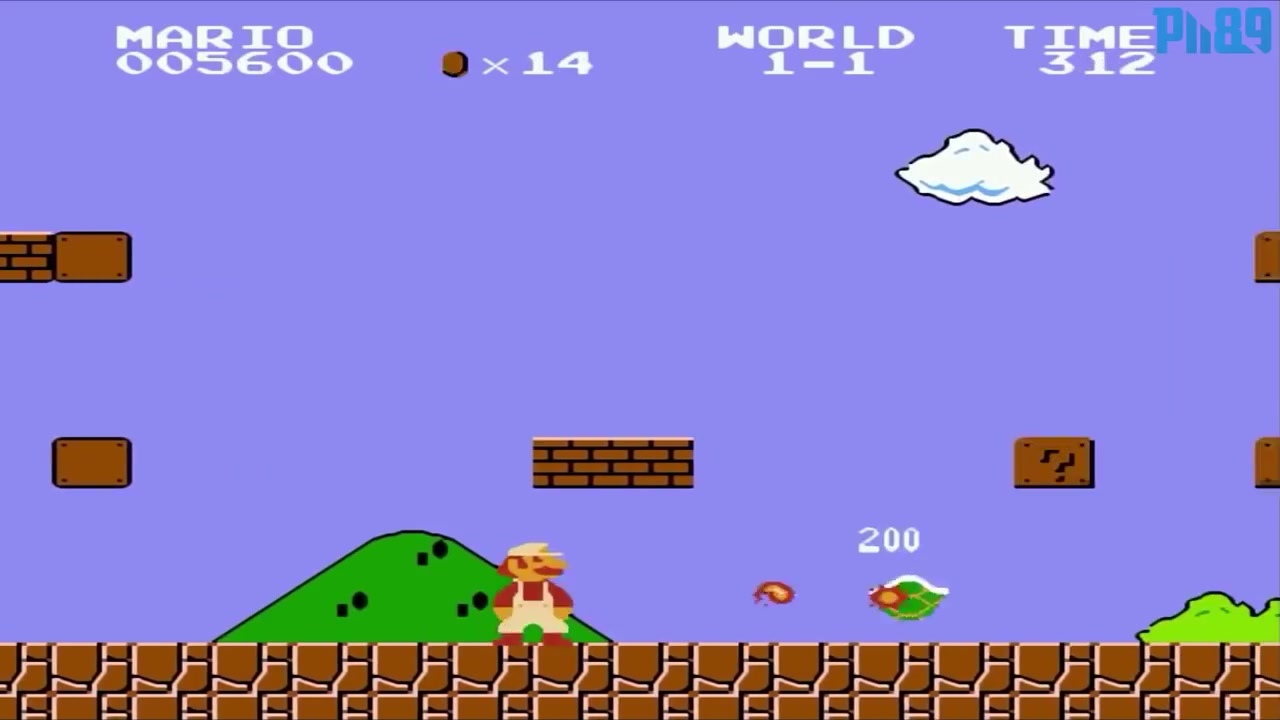mario: (484, 539, 583, 645)
